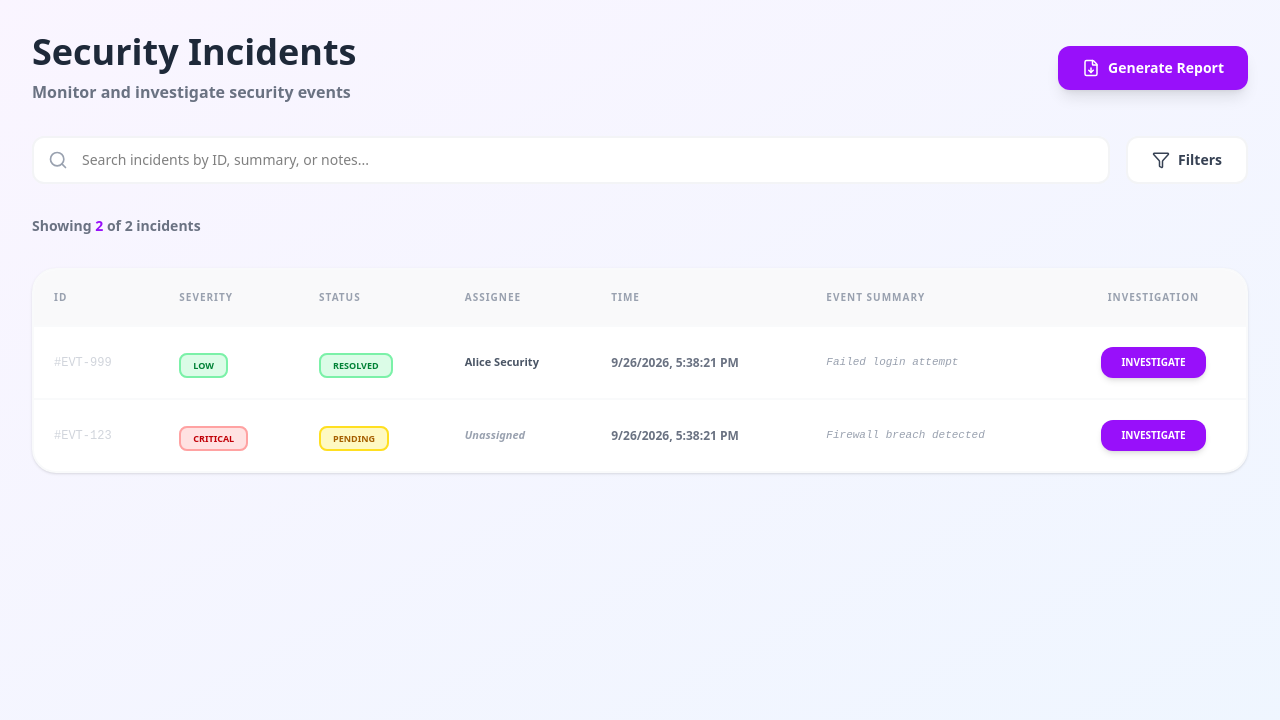
Test: Incidents Dashboard - Full Component Test Suite › [UI-05] Opens the Investigation Details view when a table row is clicked
// Click the first 'INVESTIGATE' button
Click the button "INVESTIGATE" in the row of "EVT-999". click: (1153, 362)
box: [1101,347,1206,378]
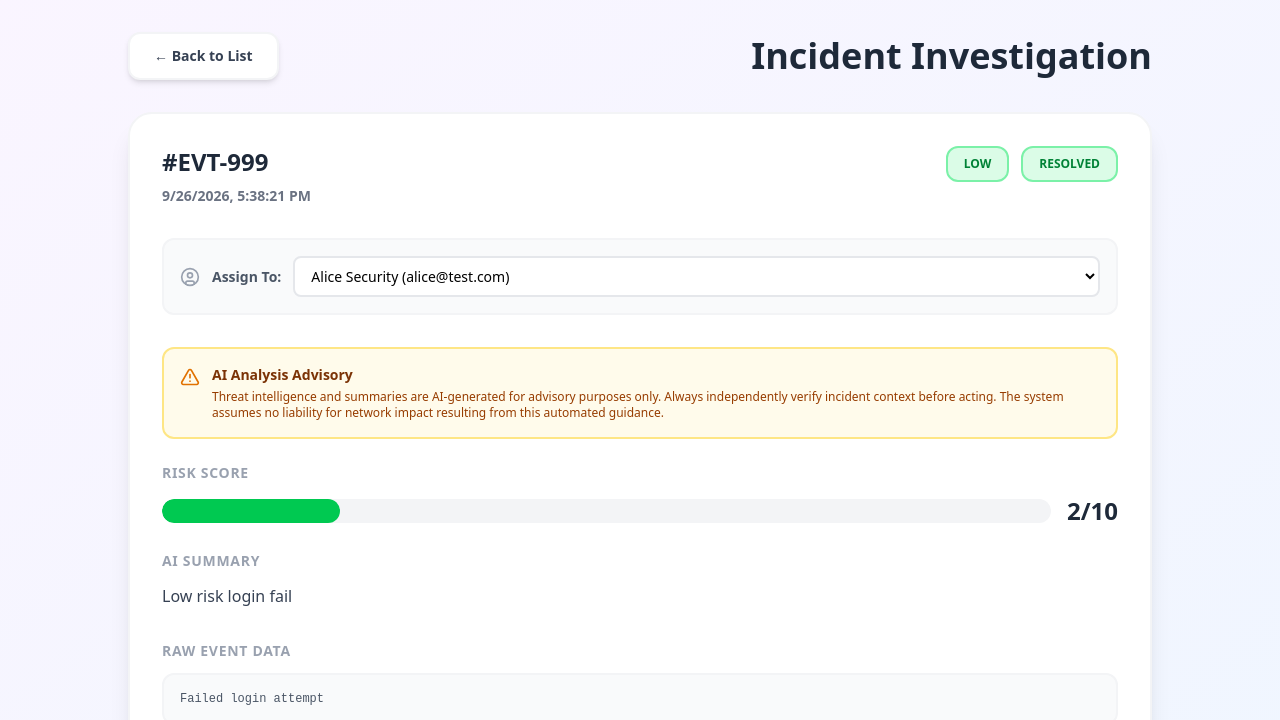
Now the heading "Incident Investigation" is shown, box [751,36,1152,76]
Now the button "← Back to List" is shown, box [128,32,279,80]
Now the heading "Raw Event Data" is shown, box [162,641,291,660]
